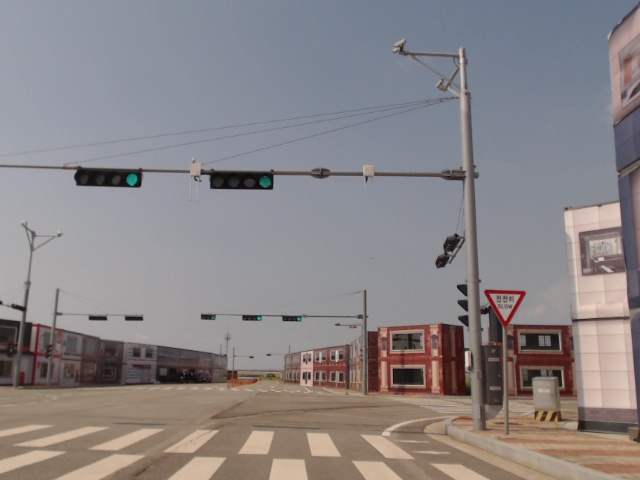straight_green_4: (210, 171, 274, 190), (76, 168, 141, 186), (282, 315, 303, 323), (244, 314, 263, 322)
